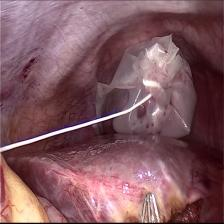Specimen Bag: (94, 30, 198, 148)
